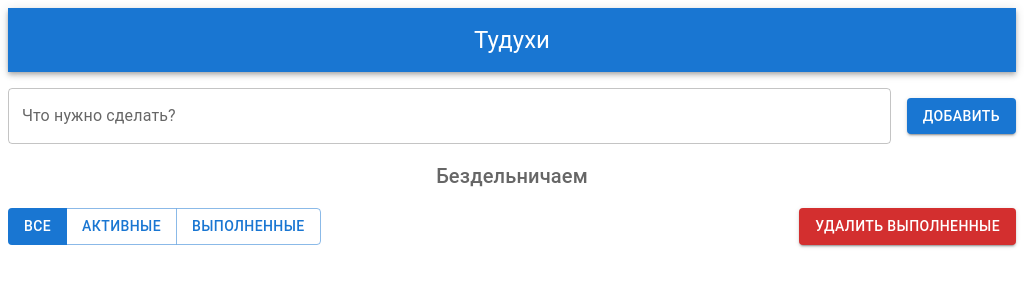
Test: Проверяем работоспособность списка задач › Удаление задачи
// Шаг 1: Добавляем задачу
Type "Новая задача" into the element with test id "task-input" at x=450, y=116, box top-left (8, 88), bottom-right (891, 144)
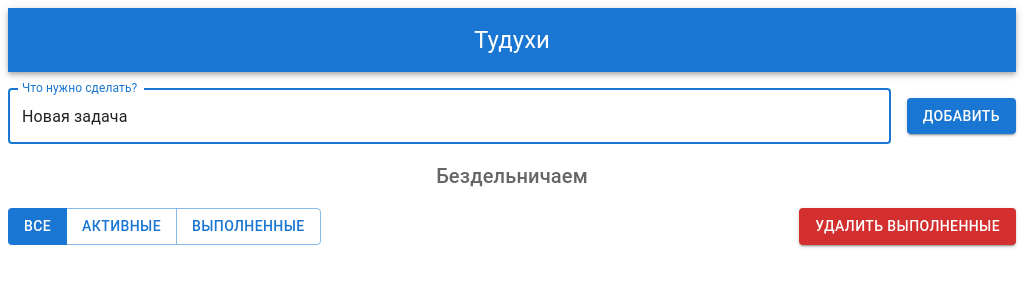
Click the button with test id "add-button" at x=962, y=117, box top-left (907, 98), bottom-right (1016, 135)
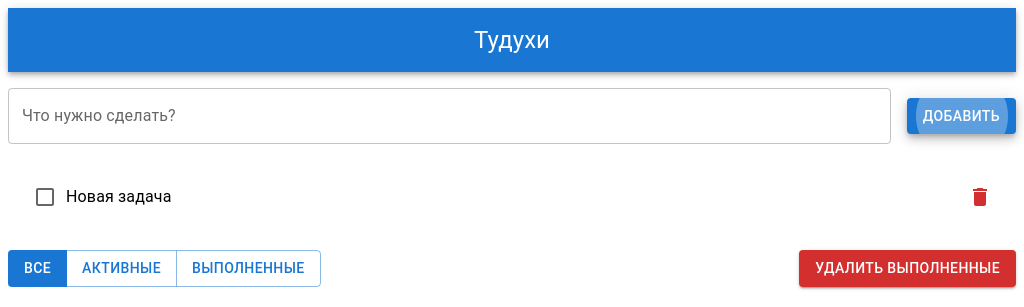
Result: the list with test id "task-list" is shown at top-left (33, 177), bottom-right (1000, 217)
Result: the text with test id "task-list" reads "Новая задача" at top-left (66, 187), bottom-right (172, 206)
// Шаг 3: Удаляем задачу
Click the button with test id "delete-button" at x=980, y=197, box top-left (960, 177), bottom-right (1000, 217)
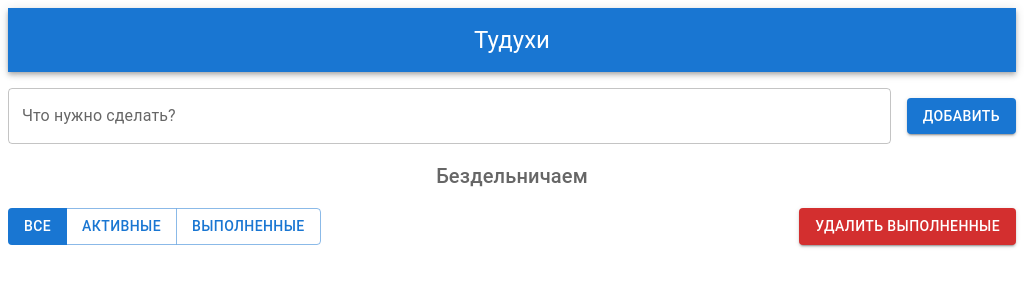
Result: the heading "Бездельничаем" is shown at top-left (436, 164), bottom-right (588, 188)
